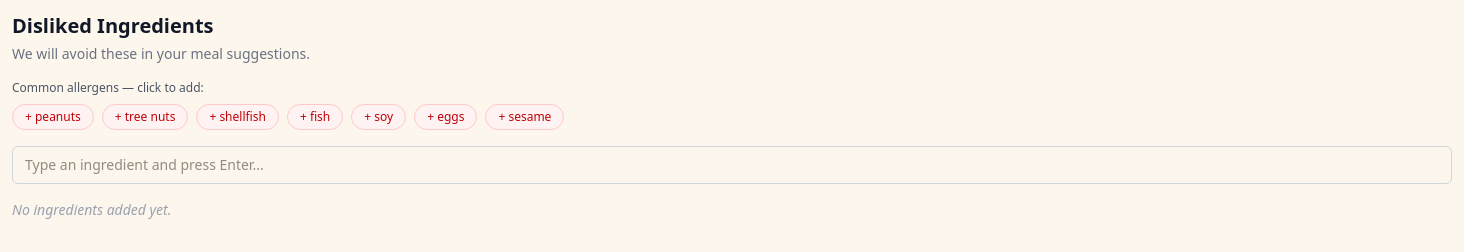
it: DislikedIngredientsStep › filters autocomplete suggestions as user types
Type "mush" into the field with placeholder "Type an ingredient and press Enter...". click: point(732, 165)
box: [12,146,1452,184]
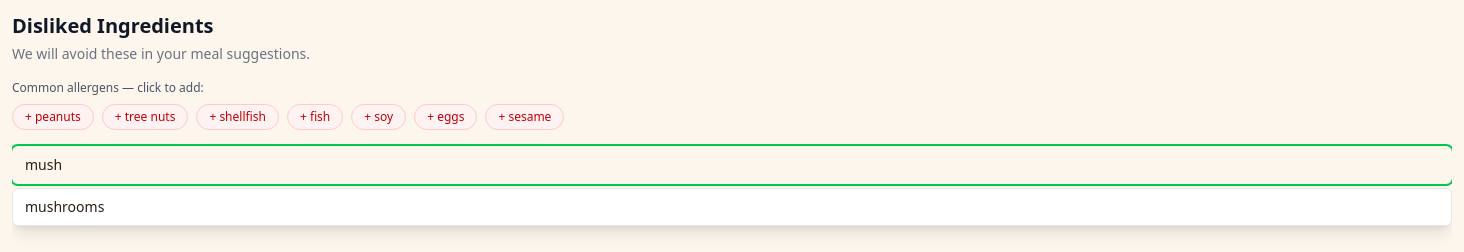
Check: the button "mushrooms" is shown, box [13,189,1451,225]
